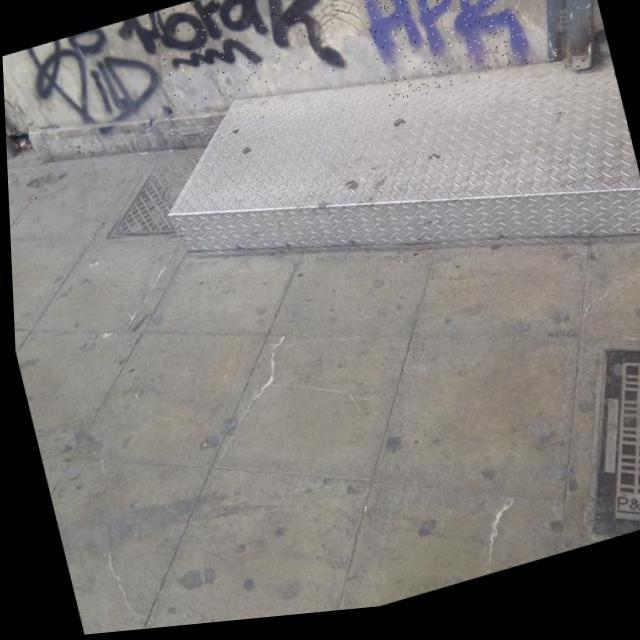-: (113, 0, 349, 132), (352, 0, 532, 116), (24, 17, 168, 154)
